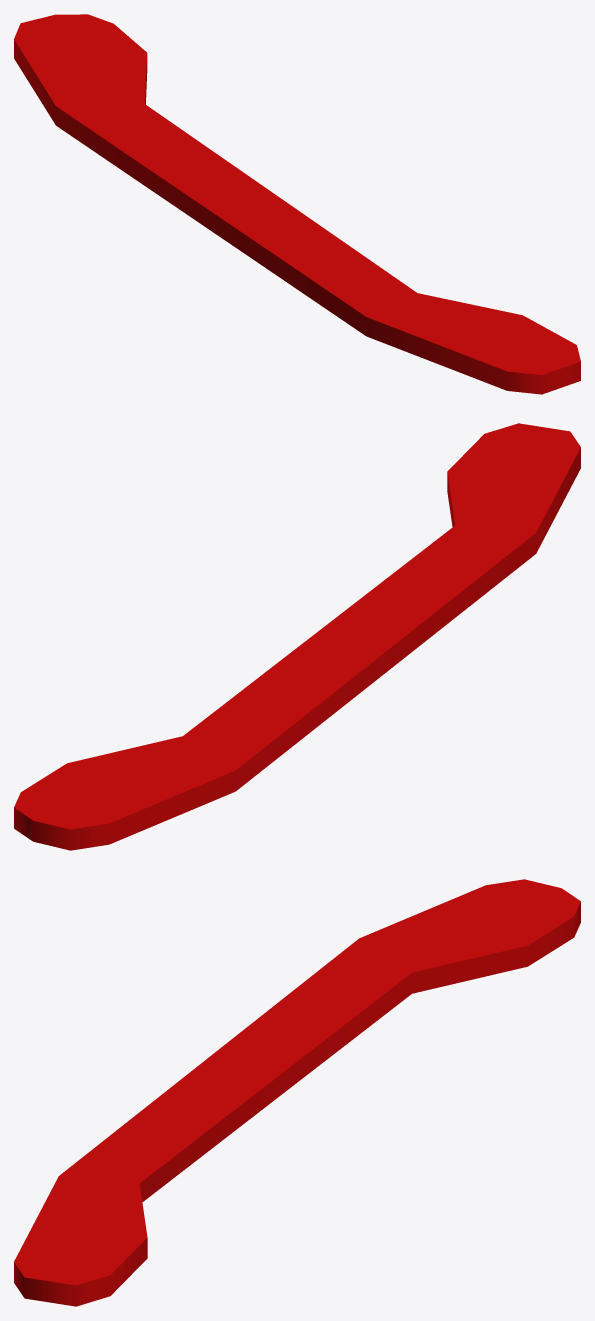
The model's file is rod_2_collision.dae.
The picture shows the model from 3 angles, top to bottom: view 1: azimuth 30°, elevation 25°; view 2: azimuth 150°, elevation 25°; view 3: azimuth 330°, elevation 25°; orthographic projection. The views are drawn at different scales.
Parts seen in each view (by area): view 1: rod_2_collision; view 2: rod_2_collision; view 3: rod_2_collision.
Boxes of the visible parts, left/top/right/bottom form: rod_2_collision: left=14, top=14, right=580, bottom=394; rod_2_collision: left=14, top=423, right=580, bottom=850; rod_2_collision: left=14, top=879, right=580, bottom=1306.
Size of the model in its own units: 0.0233 by 0.00296 by 0.1356.
